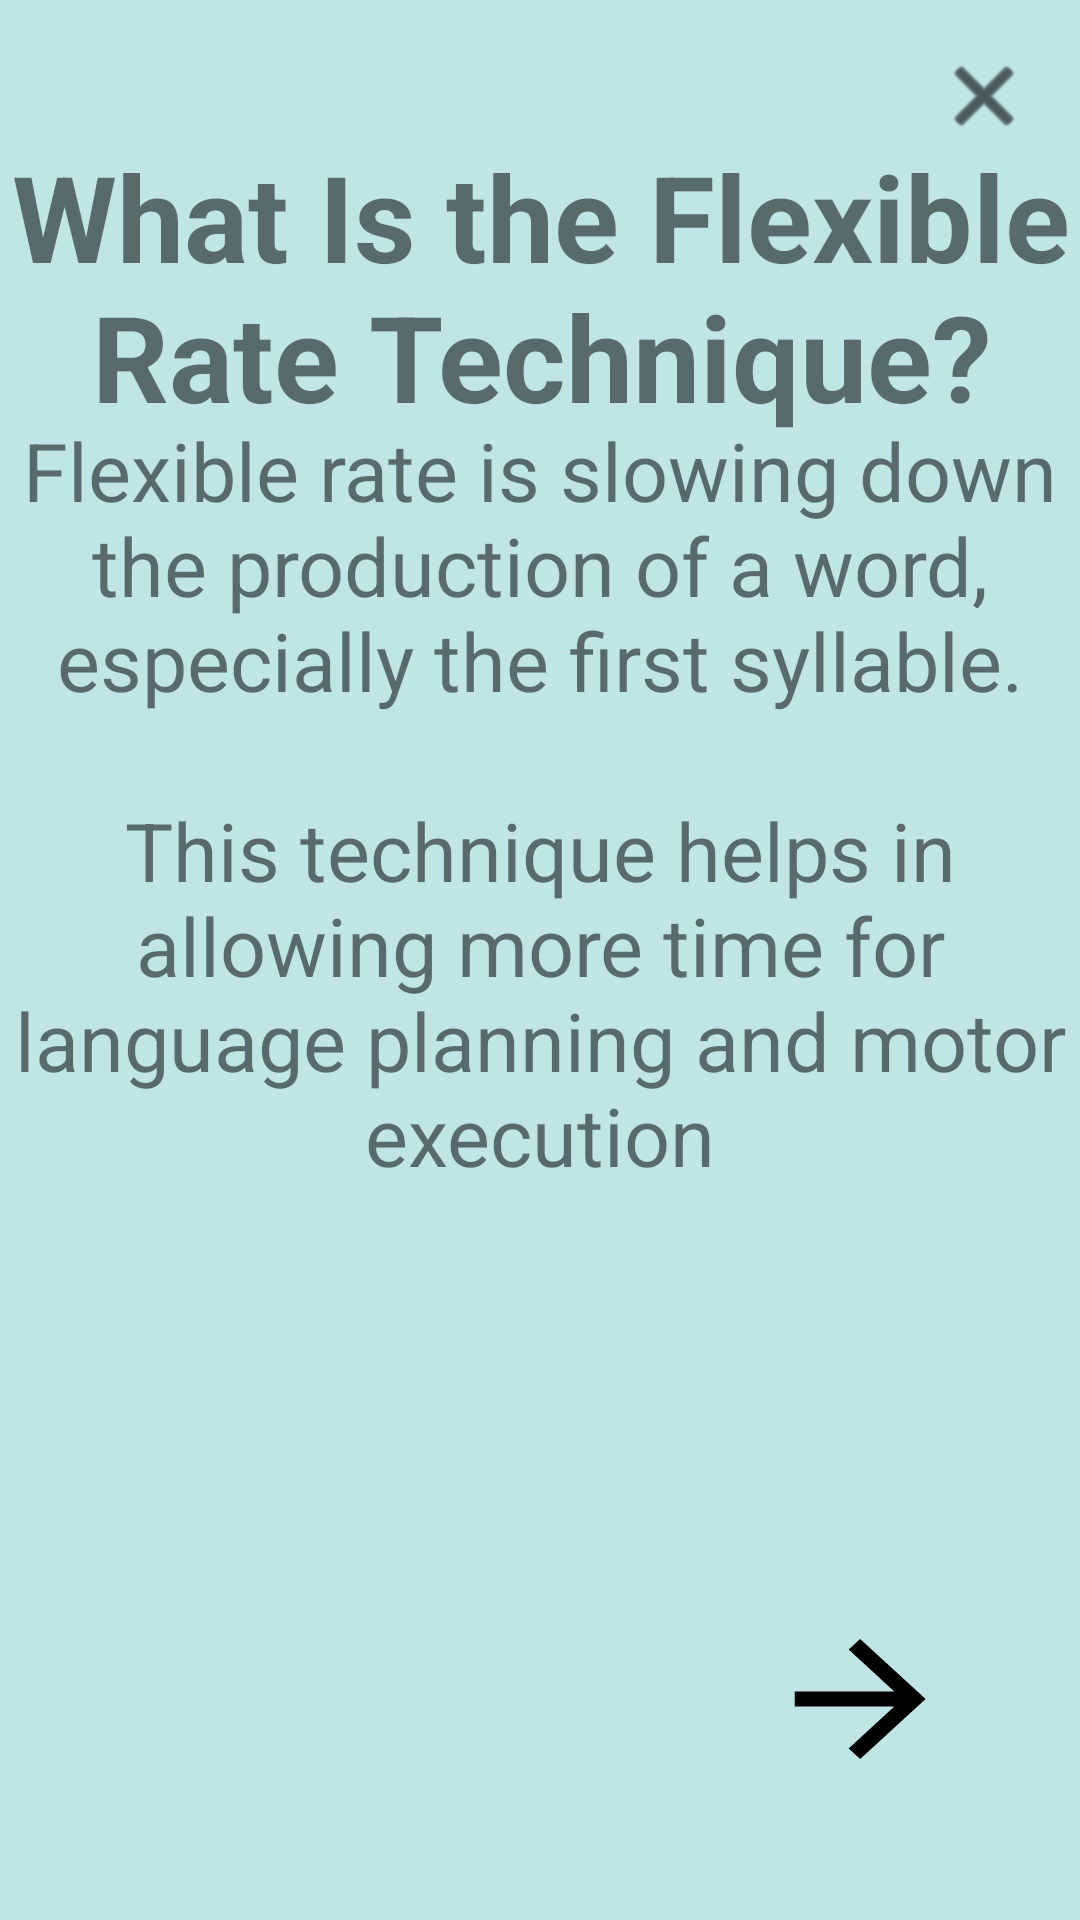

Screen size 1080*1920. Icon name, then its box in pixels as (x1, y1, x2, y2):
close: (954, 66, 1014, 126)
Next Button: (794, 1639, 926, 1759)
